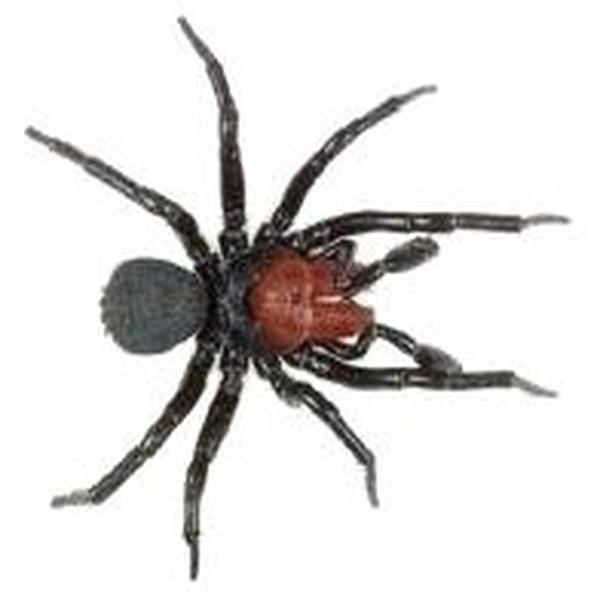Red Headed Mouse Spider: (30, 23, 553, 562)
